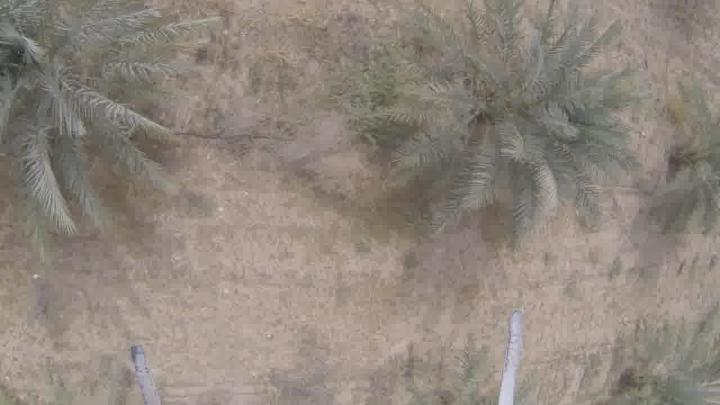Date-Palm-Crown: (425, 2, 603, 202), (1, 0, 166, 170), (648, 337, 720, 405), (680, 100, 720, 205)
